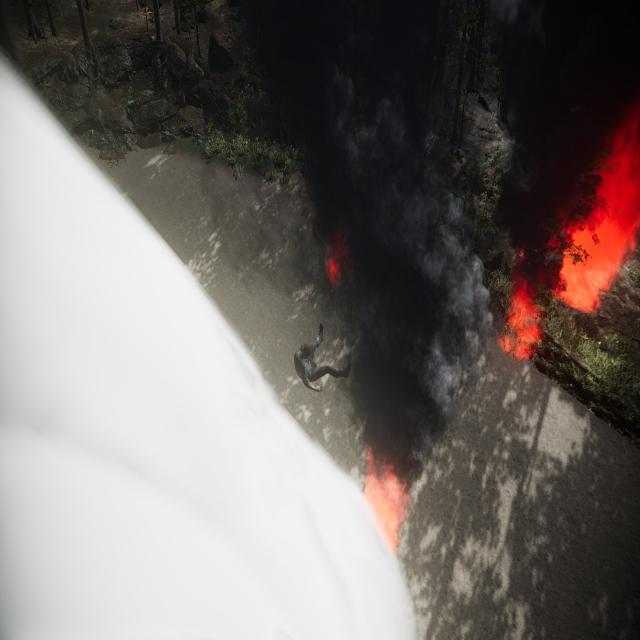Human: (279, 308, 357, 400)
